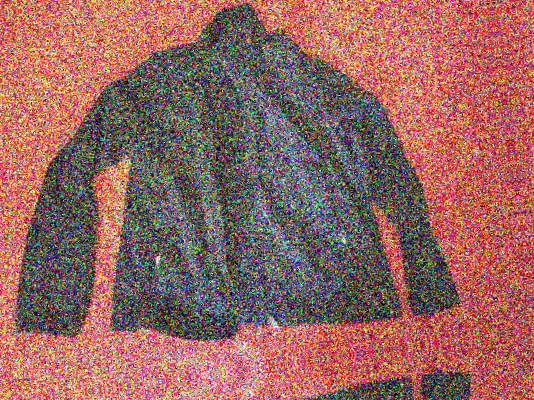Blazer: (0, 0, 475, 384), (29, 354, 526, 400)
